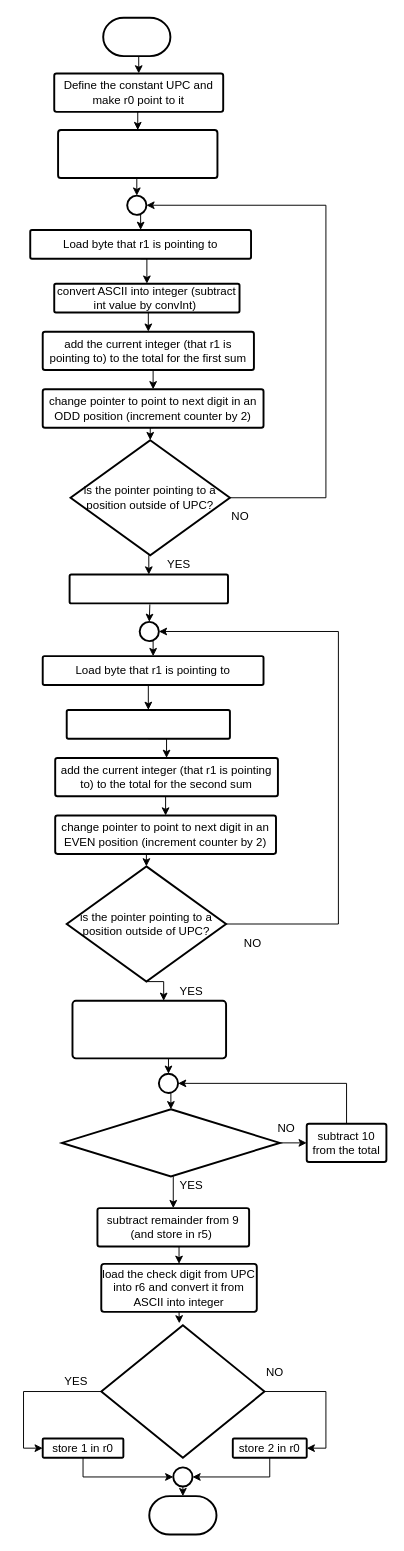
This 404x1551 diagram has some shape labels left out. The shapes that lost their labels are listed below. From the top down, each one's centre as x and y in pixels, then its label:
At point 136,36: "START".
At point 137,154: "Define and initialize value of constant for conversion: convInt=48".
At point 148,588: "reset the pointer r1 to be 1".
At point 147,723: "convert ASCII into integer".
At point 149,1029: "multiply the first sum by 3, add it to the second sum and then subtract 1".
At point 170,1142: "is the total less than or equal to 9?".
At point 182,1391: "Does the calculated check digit (r5) match the actual check digit (r6)?".
At point 182,1515: "END".
